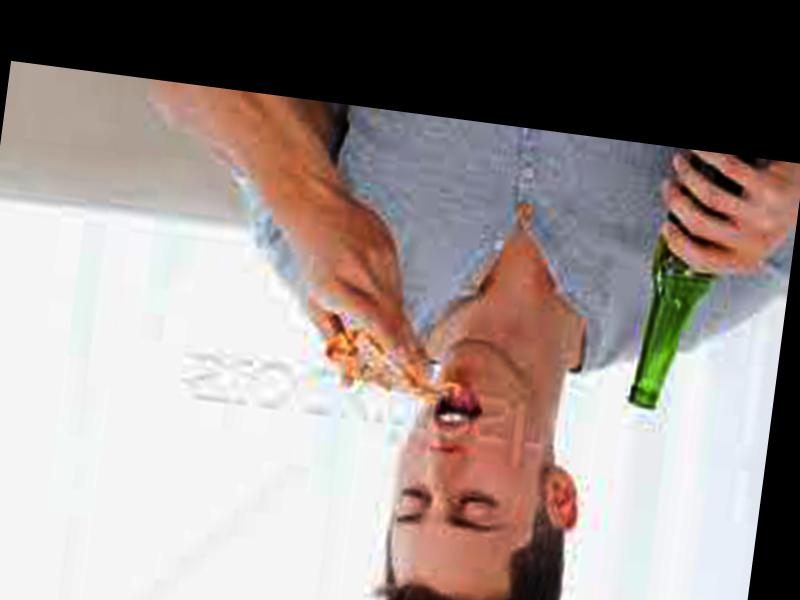Beer: (626, 144, 758, 417)
